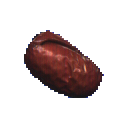ng: (17, 24, 112, 106)
